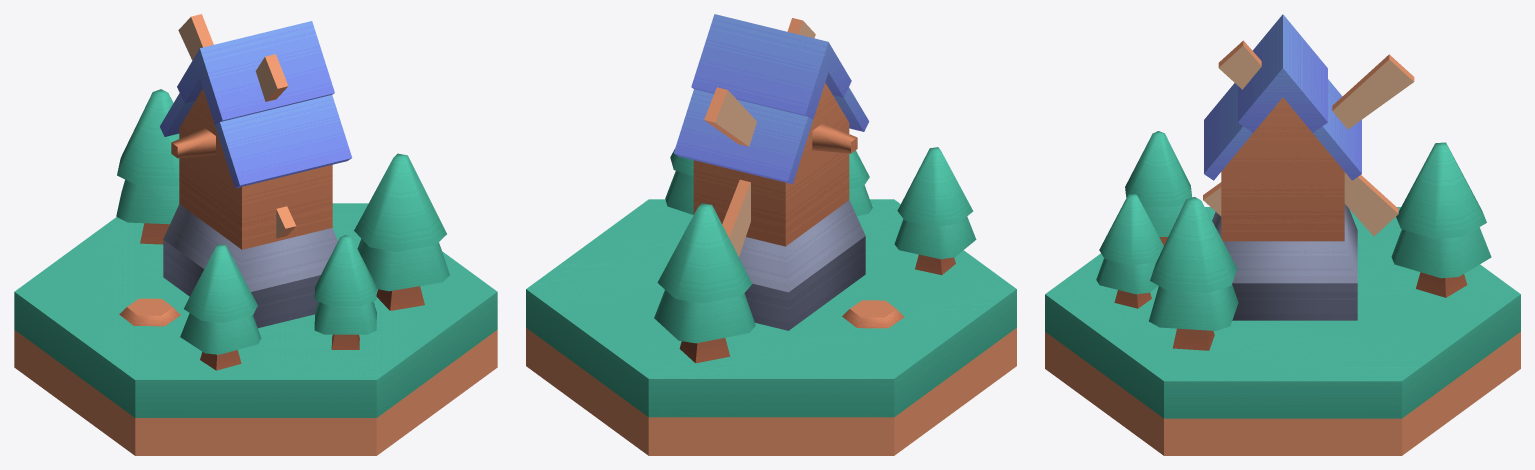
File: building-mill.glb
3 renders of one model, left to right at view 1: azimuth 30°, elevation 25°; view 2: azimuth 150°, elevation 25°; view 3: azimuth 270°, elevation 25°, orthographic. The views are drawn at different scales.
Parts seen in each view (by area): view 1: building-mill, building-mill.001; view 2: building-mill, building-mill.001; view 3: building-mill, building-mill.001.
Boxes of the visible parts, x1,y1,x2,y2 form: building-mill: (14,21,497,455); building-mill.001: (178,14,295,238); building-mill: (526,14,1016,455); building-mill.001: (704,18,815,256); building-mill: (1045,14,1520,455); building-mill.001: (1203,40,1414,236).
Size of the model in its own units: 10 by 8.78 by 11.55.
Materials: 1 (1 with a texture image).
